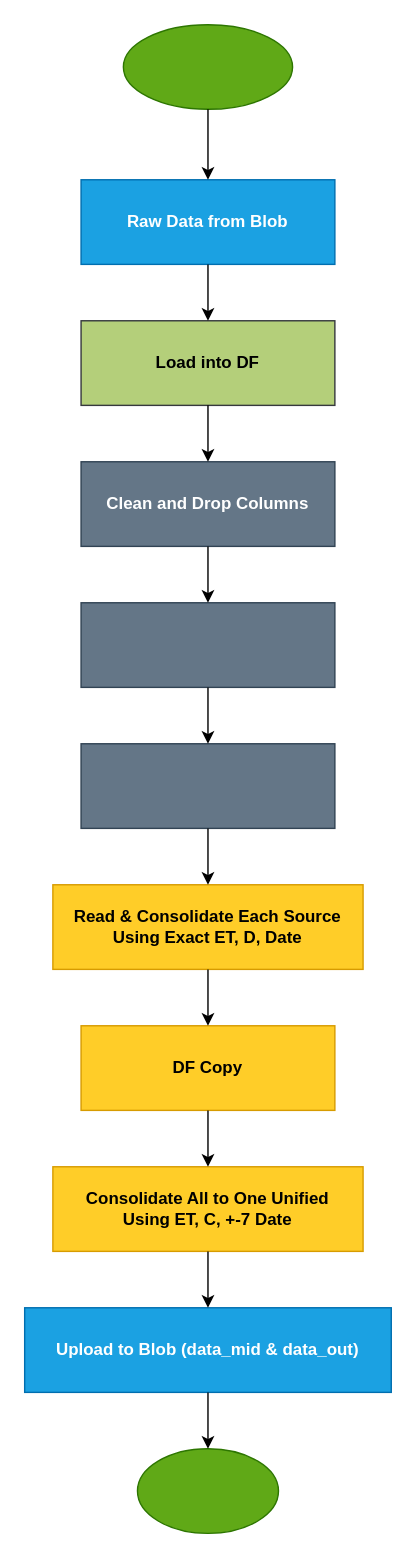
The diagram is 416 pixels wide and 1558 high, and some of its shapes have lost their labels. The shapes that lost their labels are listed below. From the top down, each one's centre as x and y in pixels, then its label:
[207,66]: Start
[207,644]: Standardised Data
[207,785]: DF
[207,1490]: End
